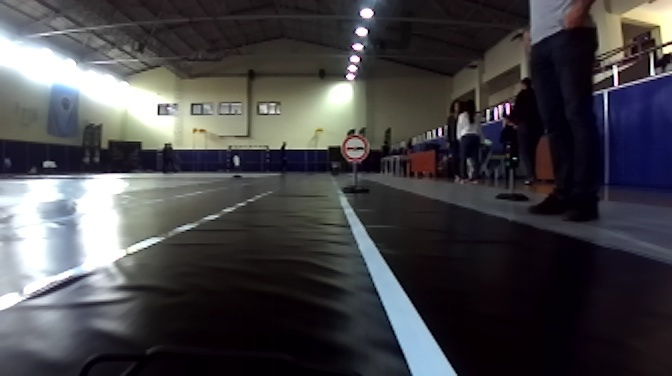sollama_yasak: (340, 136, 368, 163)
